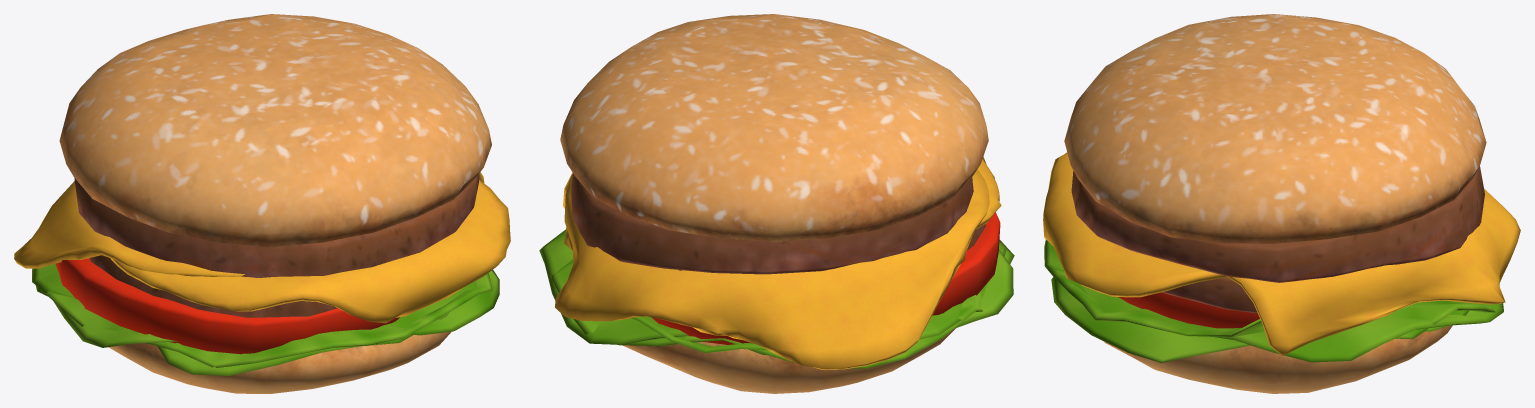
Rendered from burger.glb.
The picture shows the model from 3 angles, left to right: view 1: azimuth 30°, elevation 25°; view 2: azimuth 150°, elevation 25°; view 3: azimuth 270°, elevation 25°; orthographic projection.
Parts seen in each view (by area): view 1: top, cheese.001, meat, tomato, bottom, cheese, salat.002, salat.001, salat, meat.001; view 2: top, cheese, meat, bottom, salat, tomato, salat.001, salat.002, cheese.001; view 3: top, cheese, meat, cheese.001, bottom, salat.001, salat.002, salat, tomato, meat.001.
Part boxes in pixels (<box>): top: <box>59,14,491,247</box>; cheese.001: <box>110,180,510,323</box>; meat: <box>74,173,479,277</box>; tomato: <box>55,258,399,354</box>; bottom: <box>108,331,451,393</box>; cheese: <box>14,172,484,276</box>; salat.002: <box>35,273,492,367</box>; salat.001: <box>54,270,499,347</box>; salat: <box>32,264,449,375</box>; meat.001: <box>90,255,337,317</box>; top: <box>560,14,988,241</box>; cheese: <box>555,169,989,369</box>; meat: <box>571,173,973,274</box>; bottom: <box>622,328,955,393</box>; salat: <box>539,229,1014,355</box>; tomato: <box>651,212,1000,344</box>; salat.001: <box>631,250,1013,352</box>; salat.002: <box>550,245,1006,368</box>; cheese.001: <box>975,157,1001,229</box>; top: <box>1064,14,1486,243</box>; cheese: <box>1227,188,1520,355</box>; meat: <box>1071,166,1484,282</box>; cheese.001: <box>1043,152,1227,297</box>; bottom: <box>1103,325,1452,393</box>; salat.001: <box>1051,270,1469,362</box>; salat.002: <box>1044,239,1495,339</box>; salat: <box>1215,303,1503,362</box>; tomato: <box>1118,292,1259,328</box>; meat.001: <box>1162,277,1257,313</box>.
Bounding box in the file's own units: 0.7121 × 0.4534 × 0.6953.
6 materials, 6 textured.
